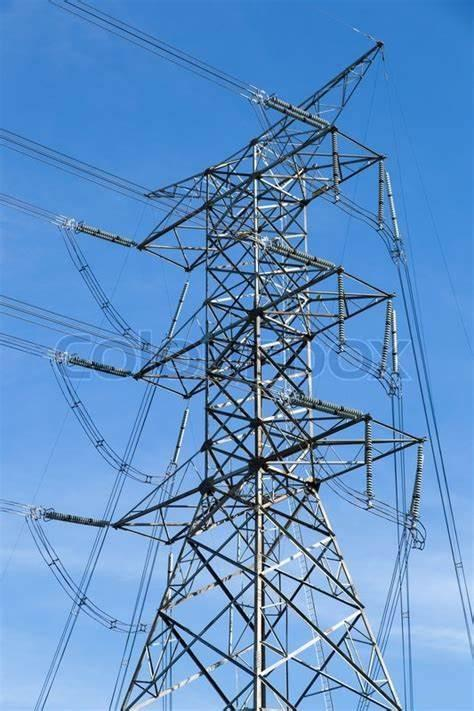power_tower: (55, 34, 461, 711)
